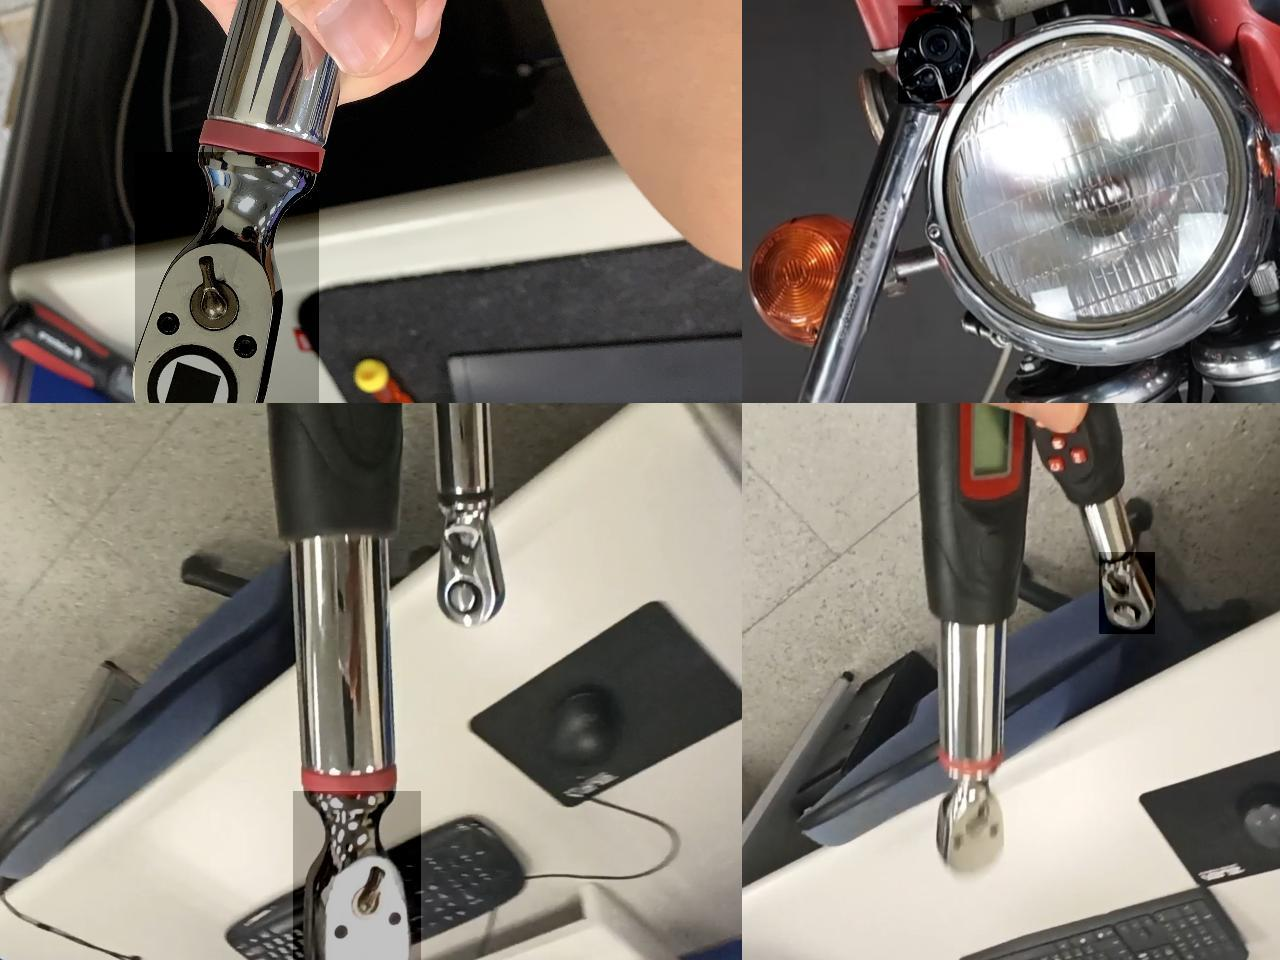Tool: (135, 152, 319, 403), (293, 791, 421, 960), (425, 506, 519, 633), (898, 5, 972, 103), (1099, 552, 1155, 634)
